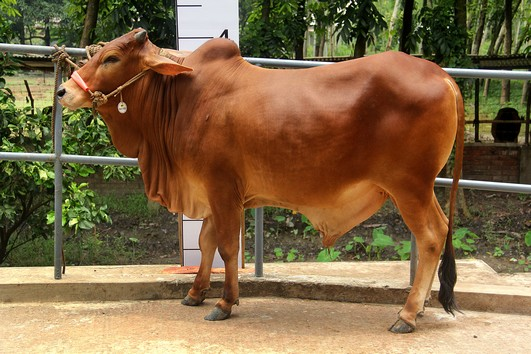cow: (50, 23, 473, 346)
